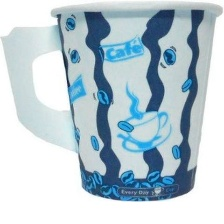paper_cup: (0, 0, 224, 206)
